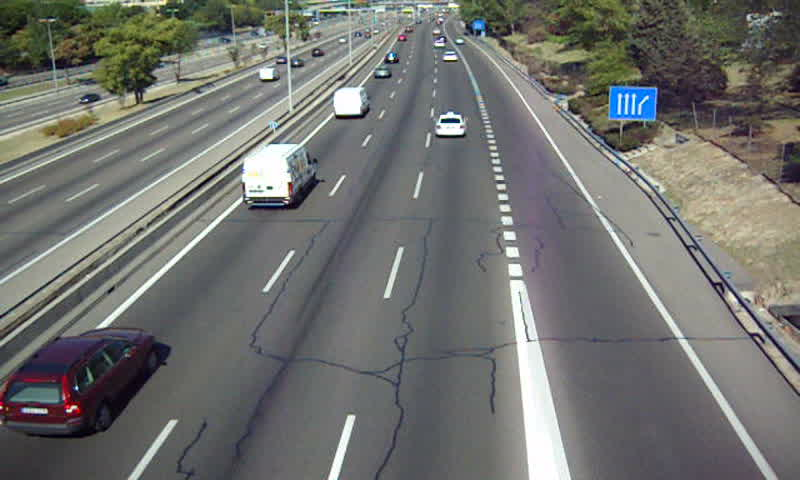car: (1, 328, 154, 435), (435, 112, 465, 137), (372, 67, 391, 80), (384, 51, 399, 66), (442, 51, 459, 64)
van: (242, 144, 319, 205), (332, 88, 368, 115)
